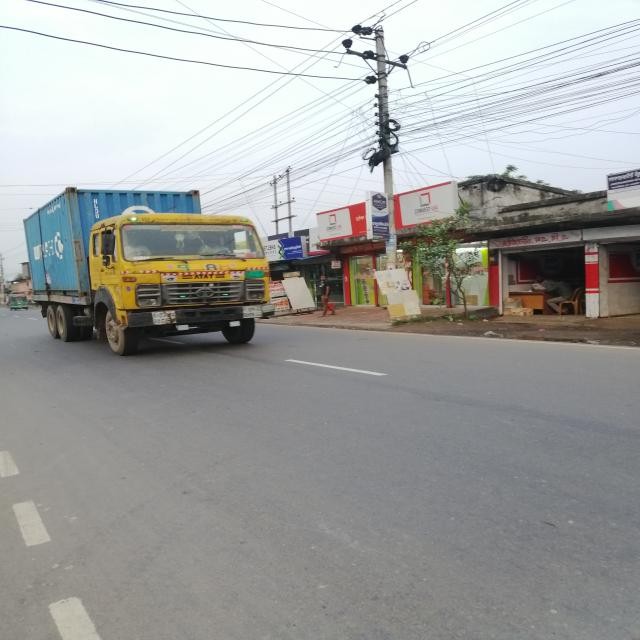Truck: (11, 183, 297, 364)
